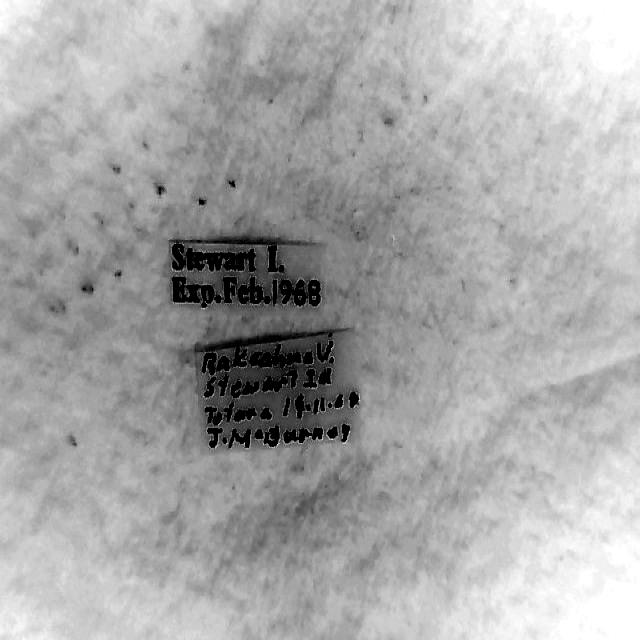hand_label: (196, 330, 360, 448)
typed_label: (171, 240, 324, 308)
